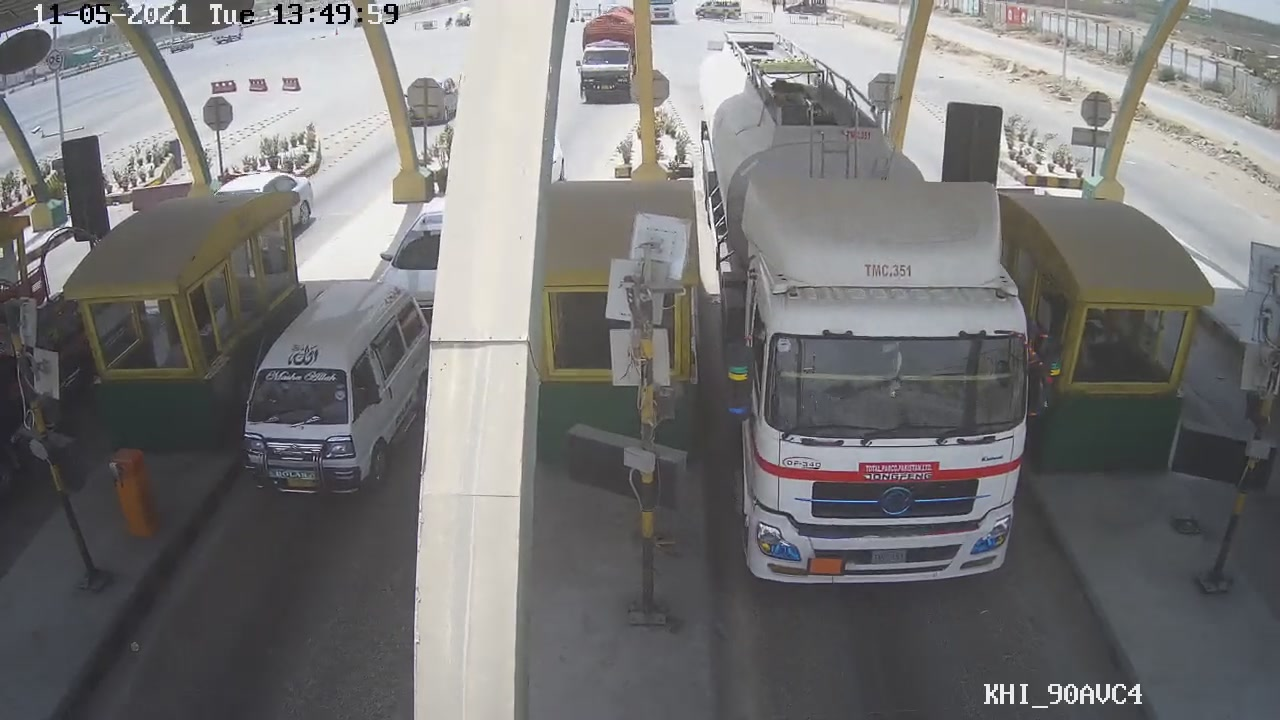F6: (710, 92, 1059, 594)
